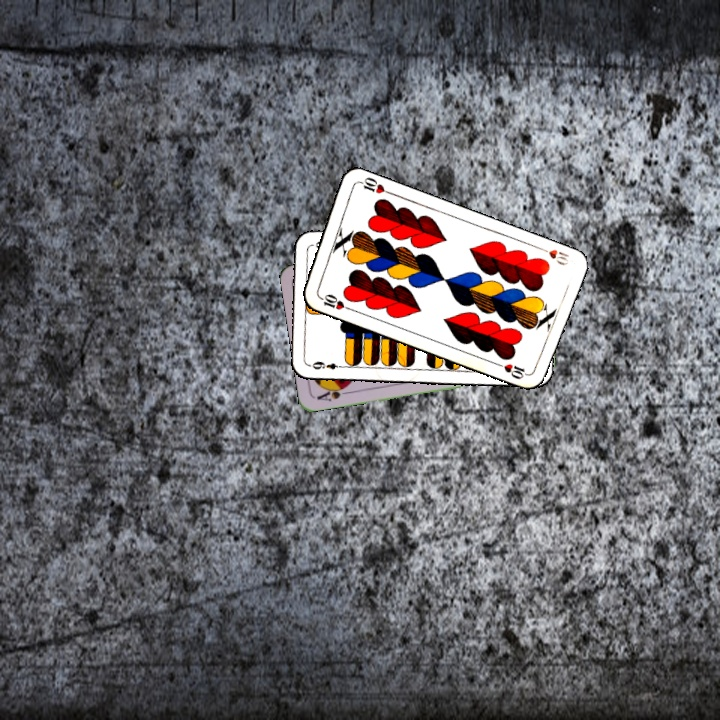E9: (307, 358, 347, 372)
H10: (534, 243, 571, 268), (314, 290, 353, 313)
SA: (313, 382, 353, 404)
